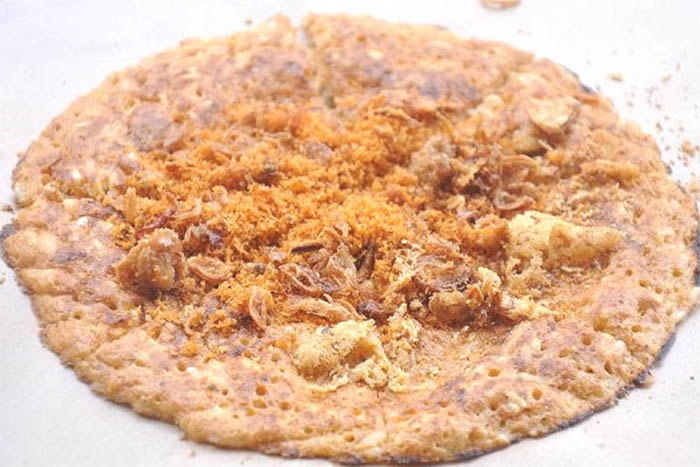kerak_telor: (7, 16, 700, 467)
